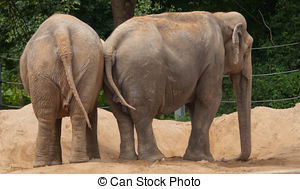Indian Elephant: (105, 6, 270, 164), (15, 8, 113, 165)
